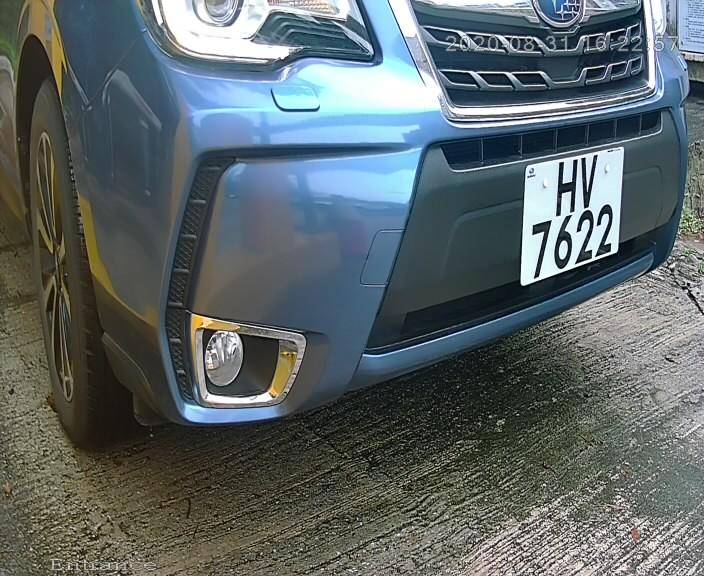License Plate: (516, 132, 629, 291)
